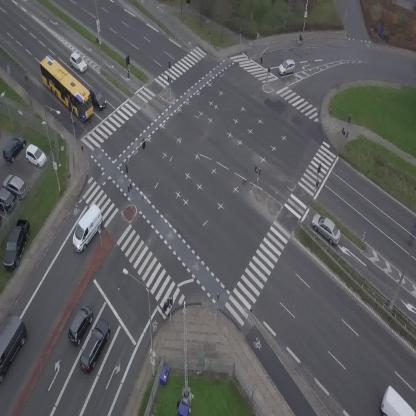bicycle: (160, 297, 172, 315), (22, 74, 32, 89), (295, 33, 304, 43)
bus: (31, 52, 102, 123)
car: (75, 316, 116, 375), (63, 302, 97, 347), (307, 210, 347, 248), (85, 85, 109, 112), (66, 51, 90, 74), (277, 58, 298, 77)
lorry: (0, 314, 36, 383), (64, 203, 111, 255), (381, 385, 416, 416)
